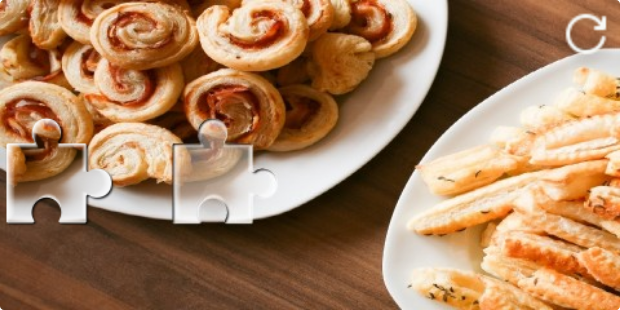target: (173, 119, 276, 223)
